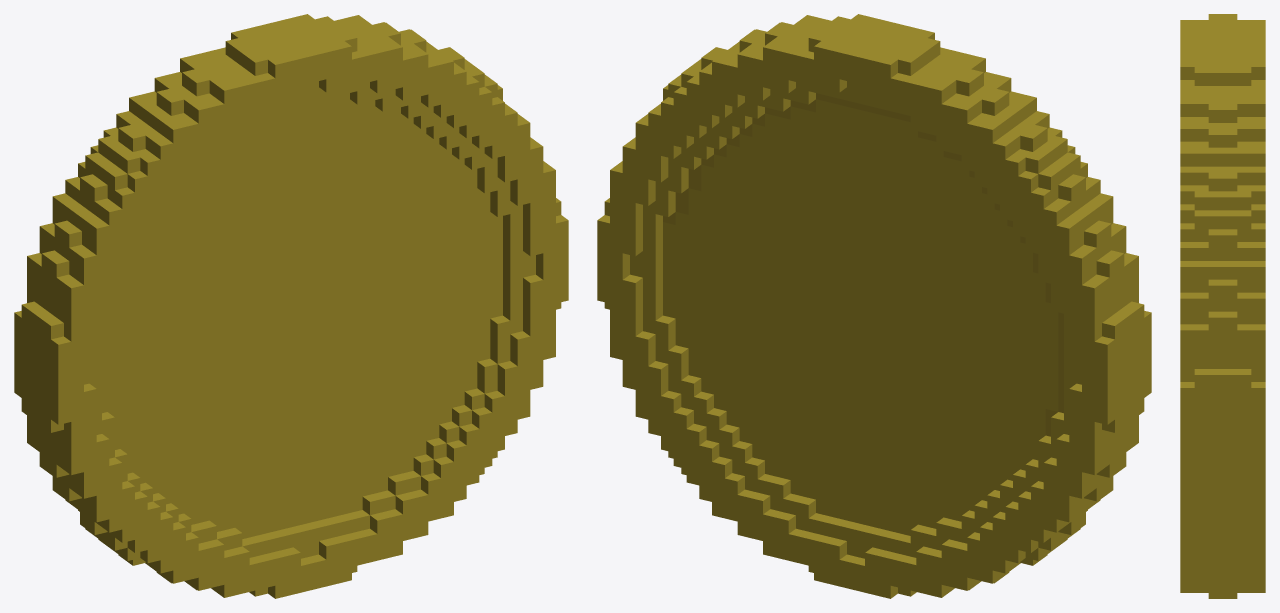
Rendered from Coin.fbx.
3 renders of one model, left to right at view 1: azimuth 30°, elevation 25°; view 2: azimuth 150°, elevation 25°; view 3: azimuth 270°, elevation 25°, orthographic. The views are drawn at different scales.
Visible parts, largest first — view 1: Untitled; view 2: Untitled; view 3: Untitled.
Part boxes in pixels (x1,y1,x2,y2): Untitled: (14, 14, 568, 598); Untitled: (597, 14, 1151, 598); Untitled: (1180, 14, 1265, 598).
Size of the model in its own units: 400 by 400 by 60.01.
1 material, 1 textured.
